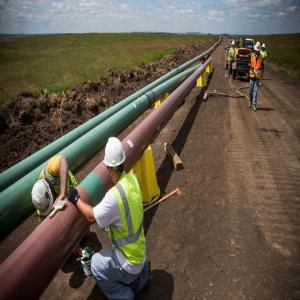white: (106, 138, 126, 185), (32, 181, 57, 217), (256, 43, 262, 55), (232, 41, 236, 49), (263, 44, 267, 51)
